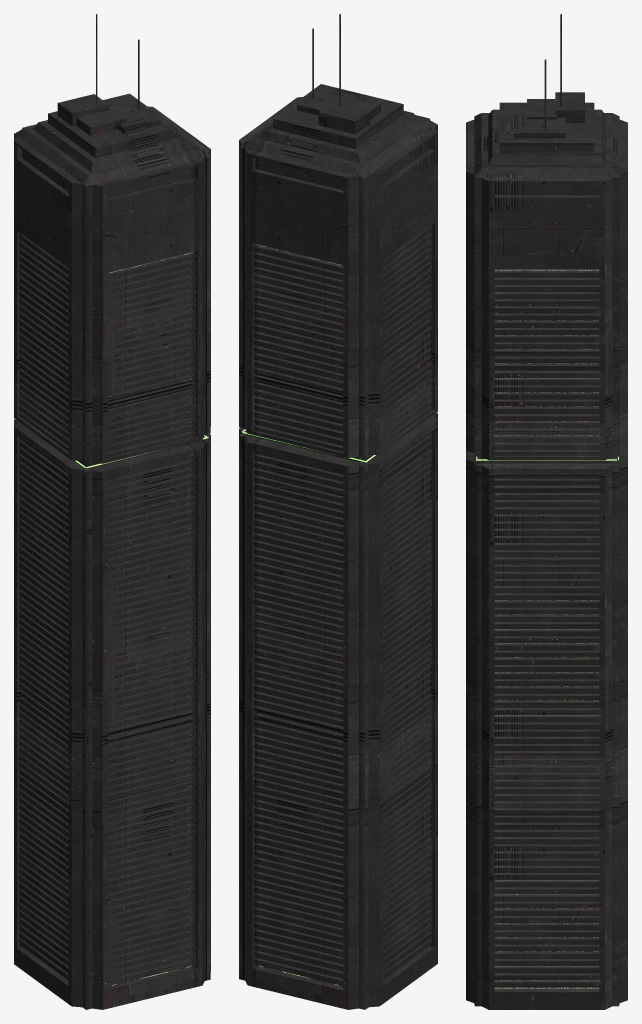
File: cyberpunk-hightower-big.glb
The picture shows the model from 3 angles, left to right: view 1: azimuth 30°, elevation 25°; view 2: azimuth 150°, elevation 25°; view 3: azimuth 270°, elevation 25°; orthographic projection.
Visible parts, largest first — view 1: Building_9; view 2: Building_9; view 3: Building_9.
Part boxes in pixels (bbox=[...]): Building_9: bbox=[14, 14, 210, 1009]; Building_9: bbox=[239, 14, 437, 1009]; Building_9: bbox=[466, 14, 627, 1009].
Size of the model in its own units: 131 by 855 by 131.
4 materials, 2 textured.
